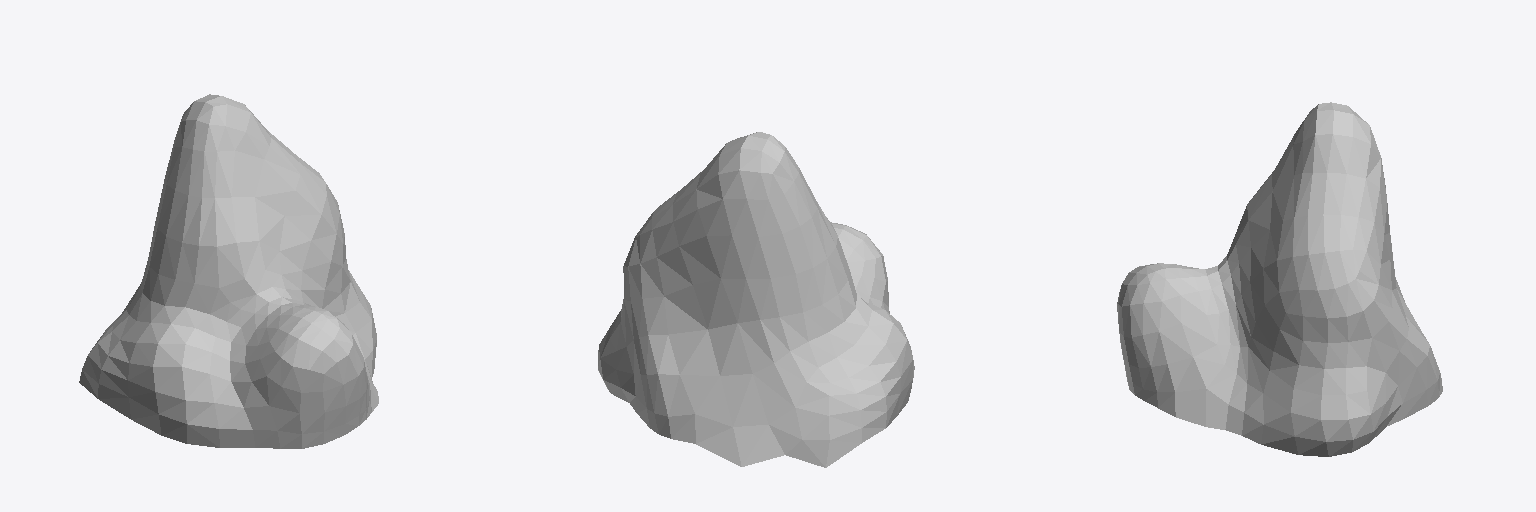
The model's file is stone7.obj.
3 views of the same model, side by side, from view 1: azimuth 30°, elevation 25°; view 2: azimuth 150°, elevation 25°; view 3: azimuth 270°, elevation 25° (orthographic).
Visible parts, largest first — view 1: stone7_Group1.006; view 2: stone7_Group1.006; view 3: stone7_Group1.006.
Boxes of the visible parts, box(x1,y1,x2,y2) form: stone7_Group1.006: box(79, 94, 378, 448); stone7_Group1.006: box(598, 132, 914, 467); stone7_Group1.006: box(1117, 102, 1442, 456).
Size of the model in its own units: 2.26 by 2.23 by 2.31.